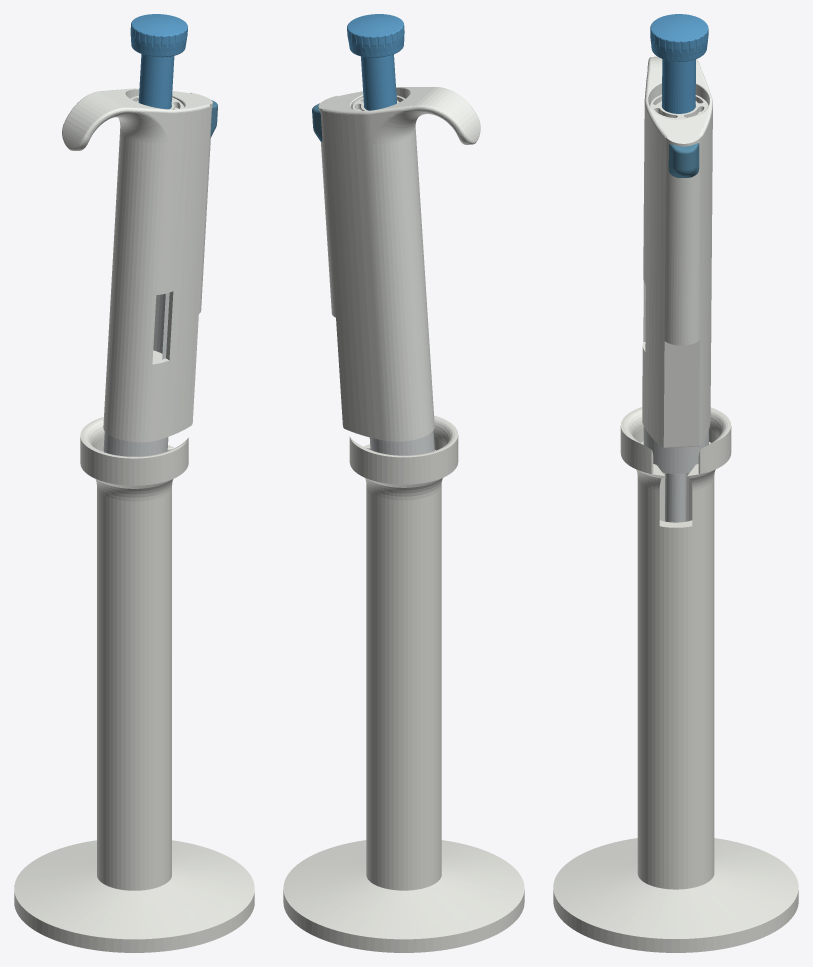
File: preview.glb
3 views of the same model, side by side, from view 1: azimuth 30°, elevation 25°; view 2: azimuth 150°, elevation 25°; view 3: azimuth 270°, elevation 25° (orthographic).
Parts seen in each view (by area): view 1: Rack_Rack, Pipette_Housing, Pipette_Plunger, Pipette_EjectorSleeve; view 2: Rack_Rack, Pipette_Housing, Pipette_Plunger, Pipette_EjectorSleeve; view 3: Rack_Rack, Pipette_Housing, Pipette_Plunger, Pipette_EjectorSleeve, Pipette_EjectorButton.
Boxes of the visible parts, x1,y1,x2,y2 form: Rack_Rack: [14, 417, 254, 952]; Pipette_Housing: [62, 88, 212, 442]; Pipette_Plunger: [130, 14, 187, 109]; Pipette_EjectorSleeve: [103, 292, 169, 456]; Rack_Rack: [283, 415, 524, 952]; Pipette_Housing: [318, 87, 480, 441]; Pipette_Plunger: [347, 14, 404, 110]; Pipette_EjectorSleeve: [369, 430, 434, 455]; Rack_Rack: [553, 407, 798, 952]; Pipette_Housing: [642, 56, 712, 447]; Pipette_Plunger: [650, 14, 708, 113]; Pipette_EjectorSleeve: [643, 426, 708, 522]; Pipette_EjectorButton: [668, 143, 699, 177].
Size of the model in its own units: 0.08 by 0.32 by 0.08.
